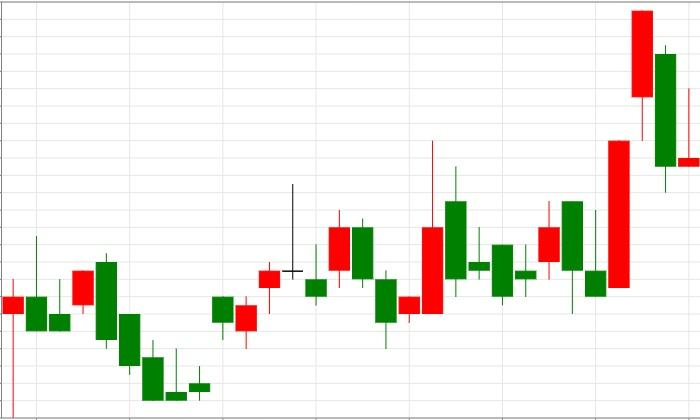bearish_engulfing_fall: (491, 200, 583, 314), (26, 236, 118, 349)
inverse_hammer_rise: (538, 200, 607, 314)
